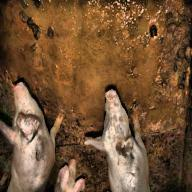boar: (0, 82, 63, 192), (84, 89, 150, 192), (55, 159, 85, 192)
